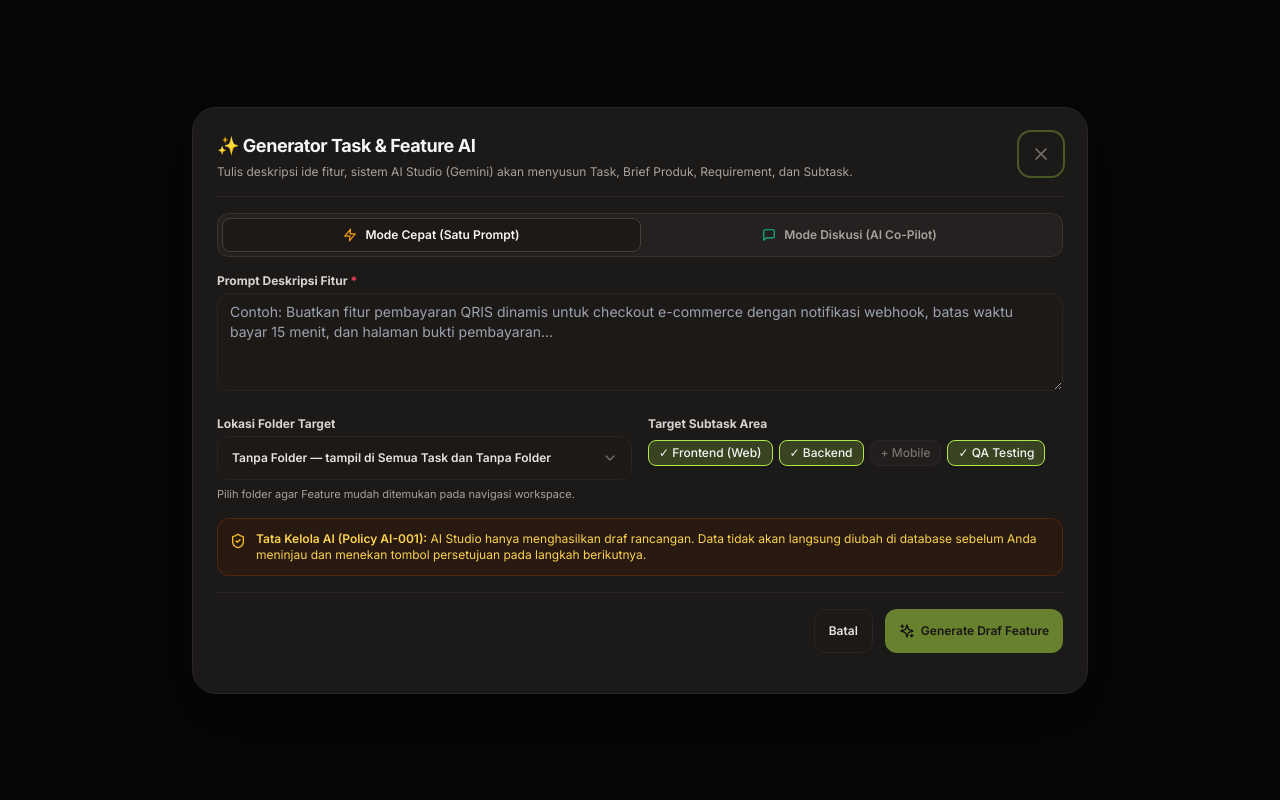
Test case: AiTaskGeneratorModal Organism › disables apply button and shows warning banner when an acceptance criterion is deleted leaving requirement empty (AC-1.2)
Replace the text in the text box with placeholder "Contoh: Buatkan fitur pembayaran QRIS dinamis" with "Fitur pembayaran QRIS dinamis" at (640, 342), box [217,292,1063,390]
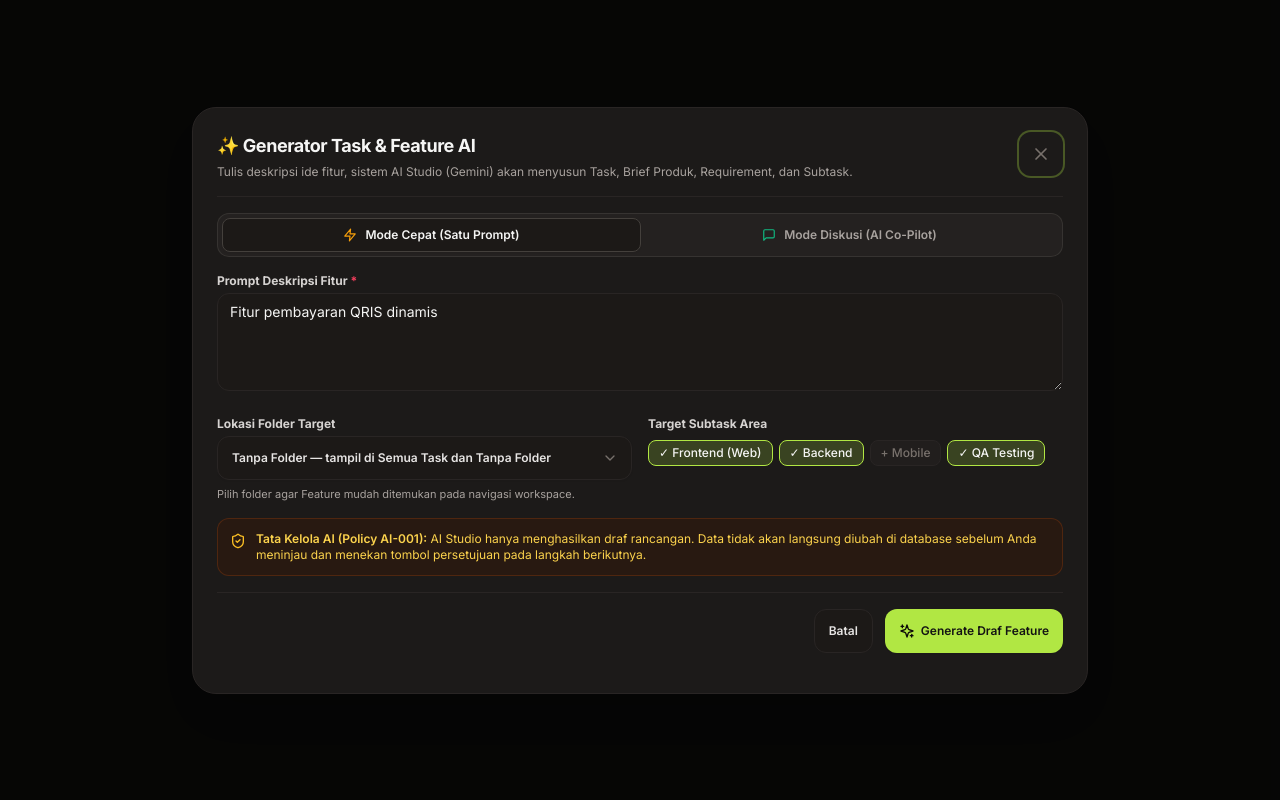
Click the button "Generate Draf Feature" at (974, 630), box [885,608,1063,652]
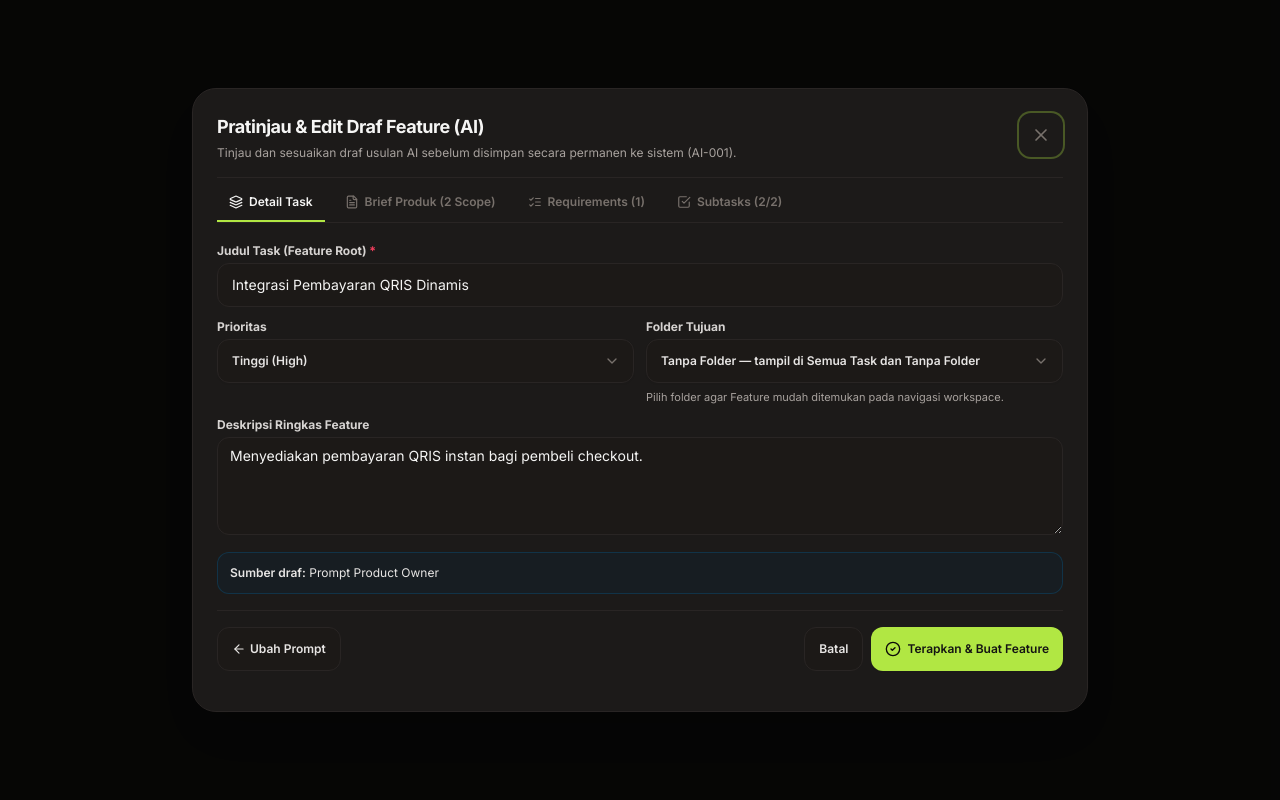
Check: the heading "Pratinjau & Edit Draf Feature (AI)" is shown, box [217,116,484,137]
// Switch to Requirements tab
Click the button "Requirements (1)" at (586, 208), box [516,194,657,222]
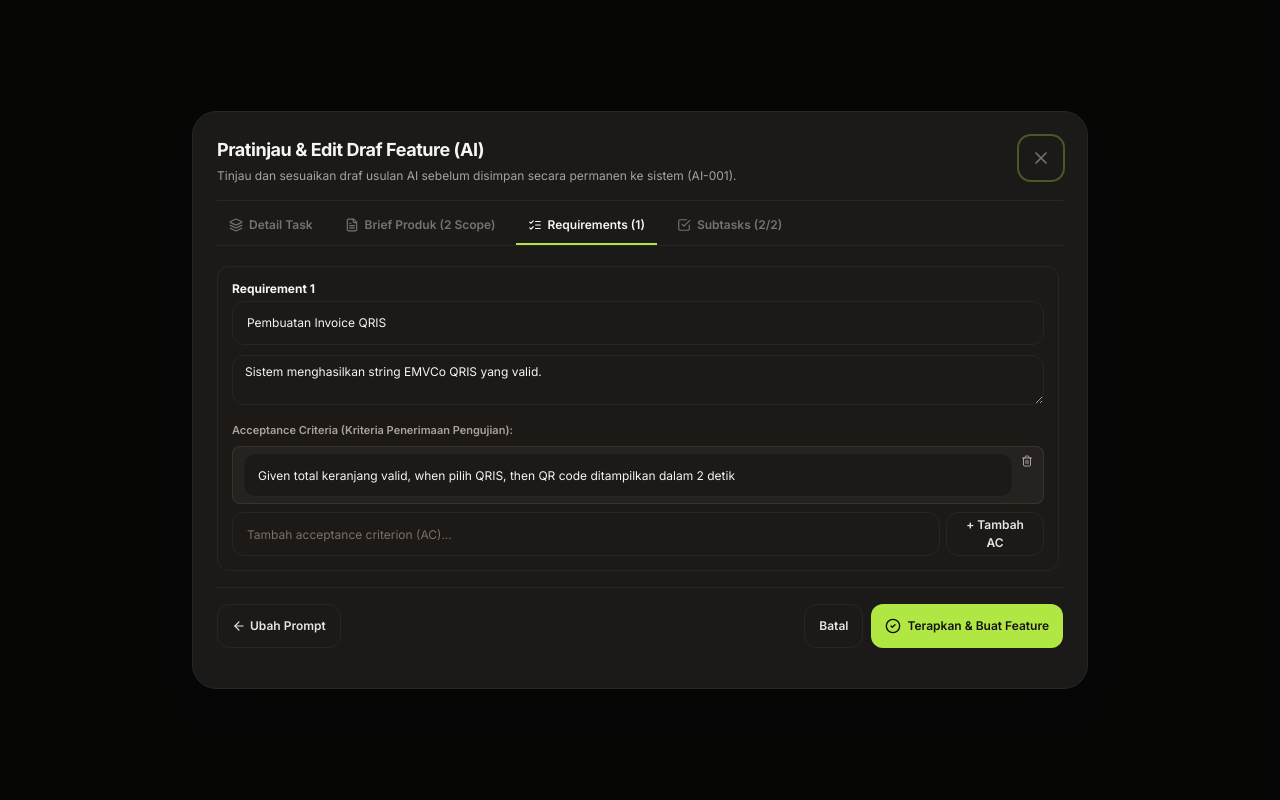
// Delete the single AC in requirement 1
Click the button named "Hapus AC 1-1" at (1027, 461), box [1021,455,1033,467]
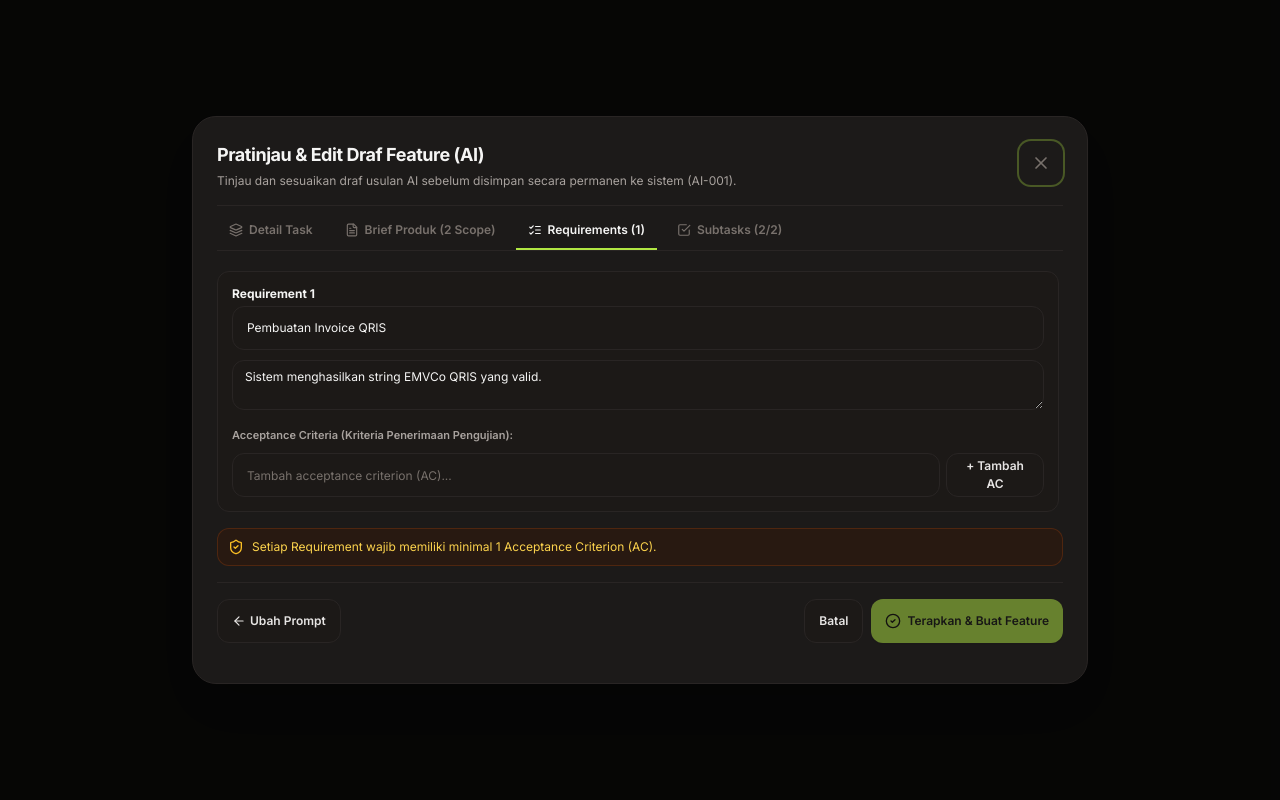
Check: the text "Setiap Requirement wajib memiliki minimal 1 Acceptance Criterion (AC)." is shown, box [252,539,656,555]
Check: the button "Terapkan & Buat Feature" is disabled, box [872,599,1063,643]
